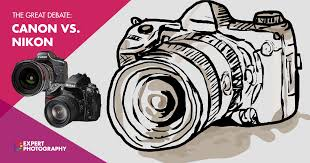camera: (44, 87, 99, 126), (12, 56, 67, 94)
